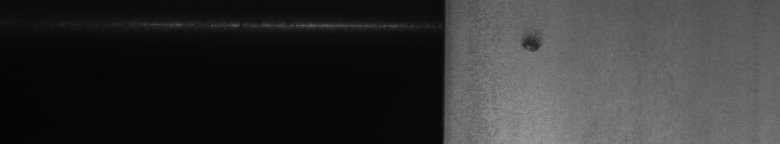fi: (516, 28, 548, 60)
